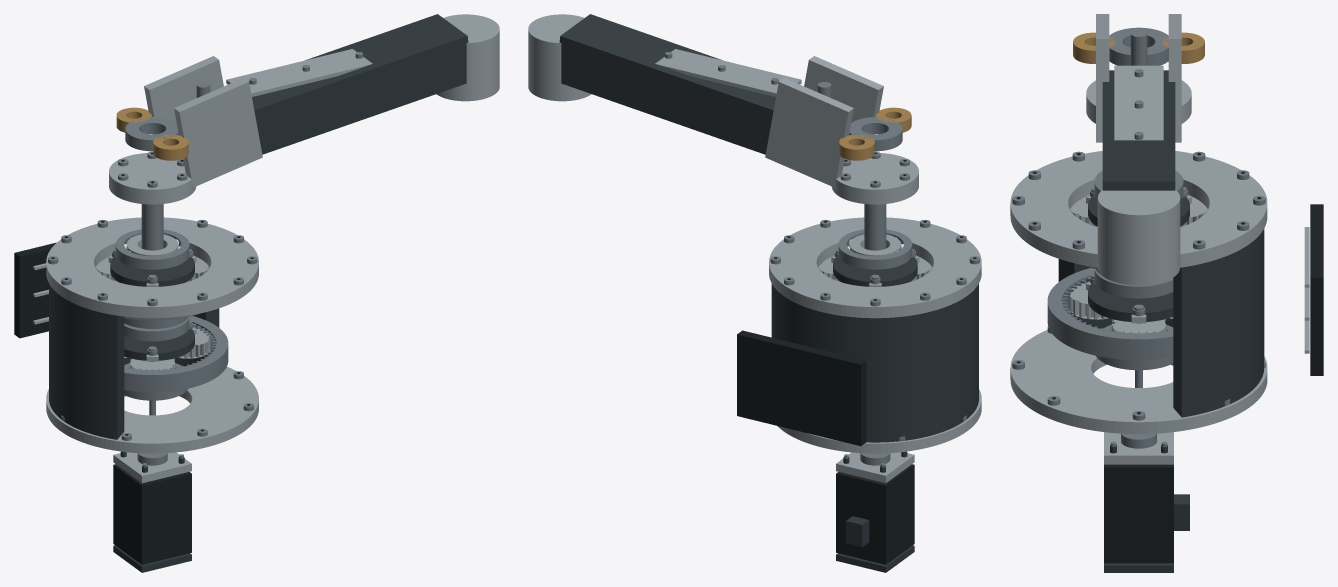
Rendered from MotionProof_Illustrative_Assembly.glb.
The picture shows the model from 3 angles, left to right: view 1: azimuth 30°, elevation 25°; view 2: azimuth 150°, elevation 25°; view 3: azimuth 270°, elevation 25°; orthographic projection. The views are drawn at different scales.
Parts seen in each view (by area): view 1: Robotic link | box section, Housing | front lip, Housing | barrel | front cutaway, Housing | rear mounting flange, NEMA 17 | stator can, Elbow clevis | cheek -1, Link | distal pivot housing, Output flange | hub, Stage 1 | fixed 60T ring gear | ring body, Housing | cutaway service window, Robotic link | machined top insert, Elbow clevis | cheek +1 (+10 smaller); view 2: Housing | barrel | front cutaway, Robotic link | box section, Housing | front lip, Housing | cutaway service window, Elbow clevis | cheek +1, NEMA 17 | stator can, Link | distal pivot housing, Output flange | hub, Robotic link | machined top insert, Elbow clevis | cheek -1, Housing | rear mounting flange, Stage 2 | planet carrier (+8 smaller); view 3: Housing | barrel | front cutaway, Housing | front lip, Housing | rear mounting flange, Link | distal pivot housing, NEMA 17 | stator can, Robotic link | box section, Stage 1 | fixed 60T ring gear | ring body, Robotic link | machined top insert, Housing | cutaway service window, Stage 1 | planet carrier, Motor | front plate, Link | distal bearing seat (+14 smaller).
Part boxes in pixels (x1=…): Robotic link | box section: x1=252, y1=14, x2=468, y2=154; Housing | front lip: x1=46, y1=217, x2=258, y2=318; Housing | barrel | front cutaway: x1=49, y1=284, x2=219, y2=439; Housing | rear mounting flange: x1=46, y1=366, x2=258, y2=453; NEMA 17 | stator can: x1=113, y1=464, x2=191, y2=564; Elbow clevis | cheek -1: x1=174, y1=78, x2=262, y2=187; Link | distal pivot housing: x1=436, y1=14, x2=499, y2=101; Output flange | hub: x1=109, y1=153, x2=195, y2=204; Stage 1 | fixed 60T ring gear | ring body: x1=124, y1=316, x2=228, y2=392; Housing | cutaway service window: x1=14, y1=242, x2=56, y2=338; Robotic link | machined top insert: x1=226, y1=49, x2=372, y2=96; Elbow clevis | cheek +1: x1=144, y1=56, x2=223, y2=134; Housing | barrel | front cutaway: x1=771, y1=284, x2=978, y2=442; Robotic link | box section: x1=559, y1=14, x2=775, y2=154; Housing | front lip: x1=769, y1=217, x2=981, y2=318; Housing | cutaway service window: x1=737, y1=330, x2=866, y2=446; Elbow clevis | cheek +1: x1=765, y1=78, x2=853, y2=187; NEMA 17 | stator can: x1=836, y1=464, x2=914, y2=564; Link | distal pivot housing: x1=528, y1=14, x2=591, y2=101; Output flange | hub: x1=832, y1=153, x2=918, y2=204; Robotic link | machined top insert: x1=655, y1=49, x2=801, y2=96; Elbow clevis | cheek -1: x1=804, y1=56, x2=883, y2=134; Housing | rear mounting flange: x1=777, y1=389, x2=981, y2=453; Stage 2 | planet carrier: x1=833, y1=257, x2=917, y2=286; Housing | barrel | front cutaway: x1=1058, y1=229, x2=1264, y2=417; Housing | front lip: x1=1010, y1=151, x2=1267, y2=267; Housing | rear mounting flange: x1=1010, y1=328, x2=1267, y2=433; Link | distal pivot housing: x1=1097, y1=190, x2=1180, y2=285; NEMA 17 | stator can: x1=1104, y1=464, x2=1173, y2=563; Robotic link | box section: x1=1102, y1=70, x2=1175, y2=190; Stage 1 | fixed 60T ring gear | ring body: x1=1047, y1=268, x2=1173, y2=360; Robotic link | machined top insert: x1=1114, y1=65, x2=1163, y2=140; Housing | cutaway service window: x1=1310, y1=204, x2=1323, y2=375; Stage 1 | planet carrier: x1=1088, y1=283, x2=1173, y2=321; Motor | front plate: x1=1104, y1=432, x2=1173, y2=464; Link | distal bearing seat: x1=1109, y1=27, x2=1168, y2=65.
Size of the model in its own units: 0.368 by 0.3788 by 0.19.
